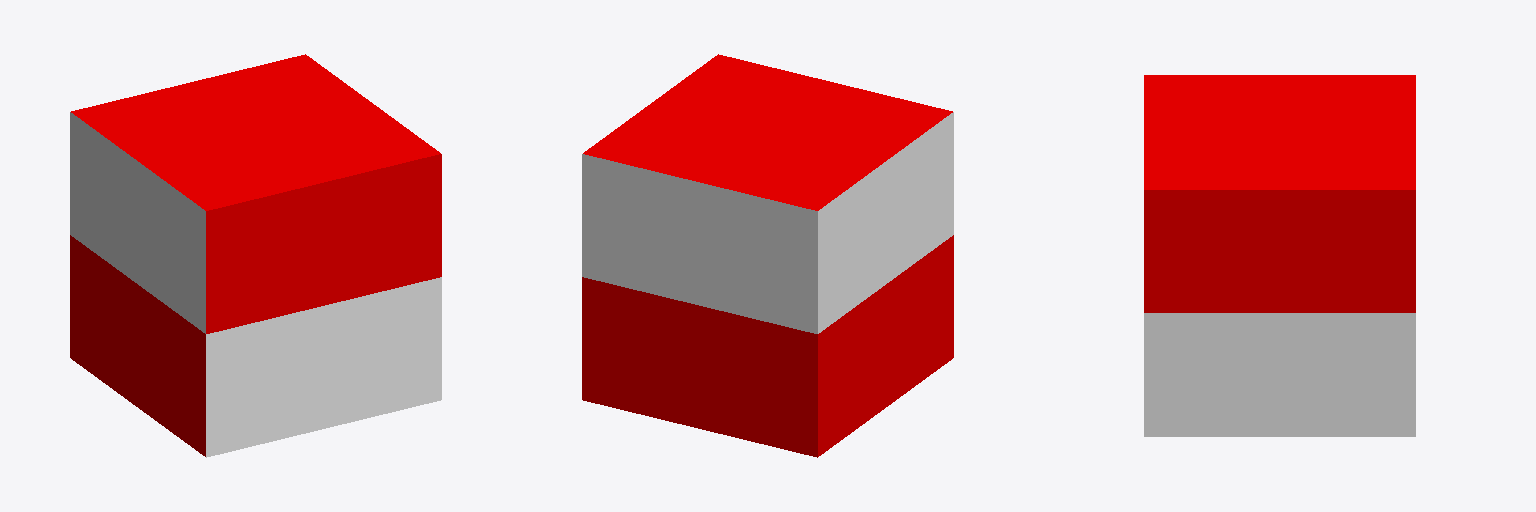
3 views of the same model, side by side, from view 1: azimuth 30°, elevation 25°; view 2: azimuth 150°, elevation 25°; view 3: azimuth 270°, elevation 25° (orthographic).
Parts seen in each view (by area): view 1: Cube; view 2: Cube; view 3: Cube.
Boxes of the visible parts, x1,y1,x2,y2 form: Cube: [70, 54, 441, 457]; Cube: [582, 54, 953, 457]; Cube: [1144, 75, 1415, 436].
Size of the model in its own units: 2 by 2 by 2.
Materials: 1 (1 with a texture image).